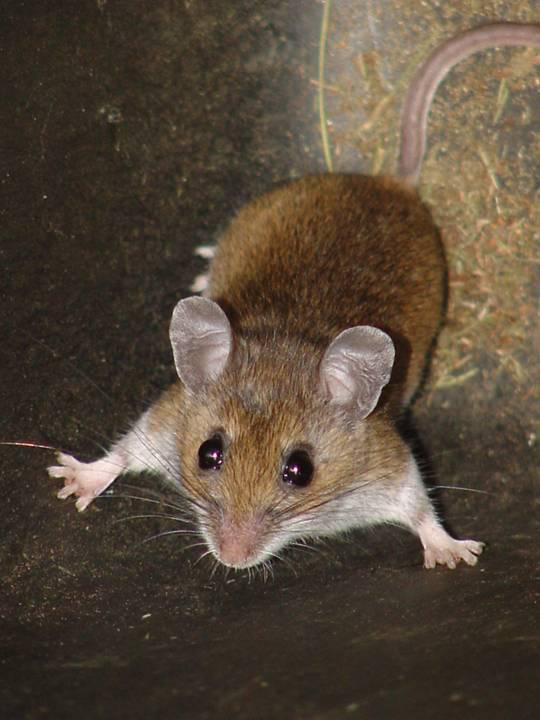rat: (49, 22, 540, 568)
